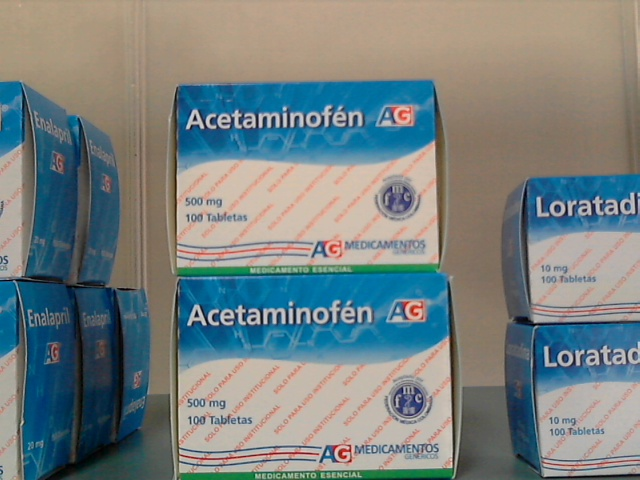AG: (179, 279, 453, 478), (179, 84, 440, 272)
